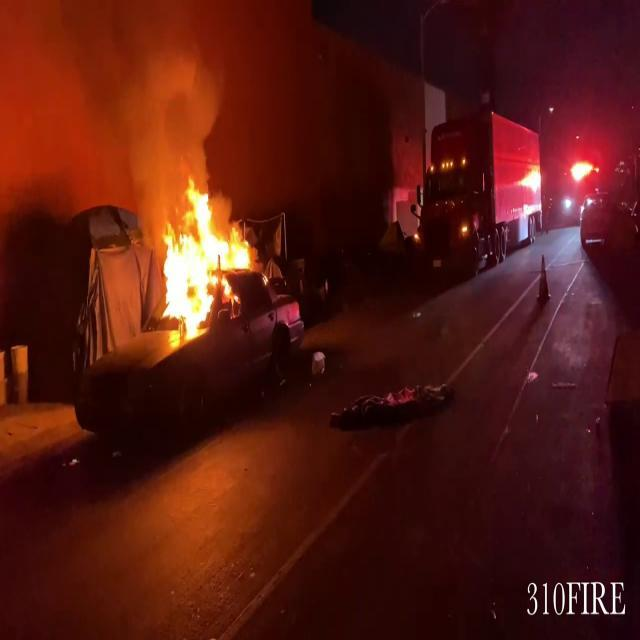Fire: (155, 178, 259, 345)
Smoke: (1, 0, 226, 206)
